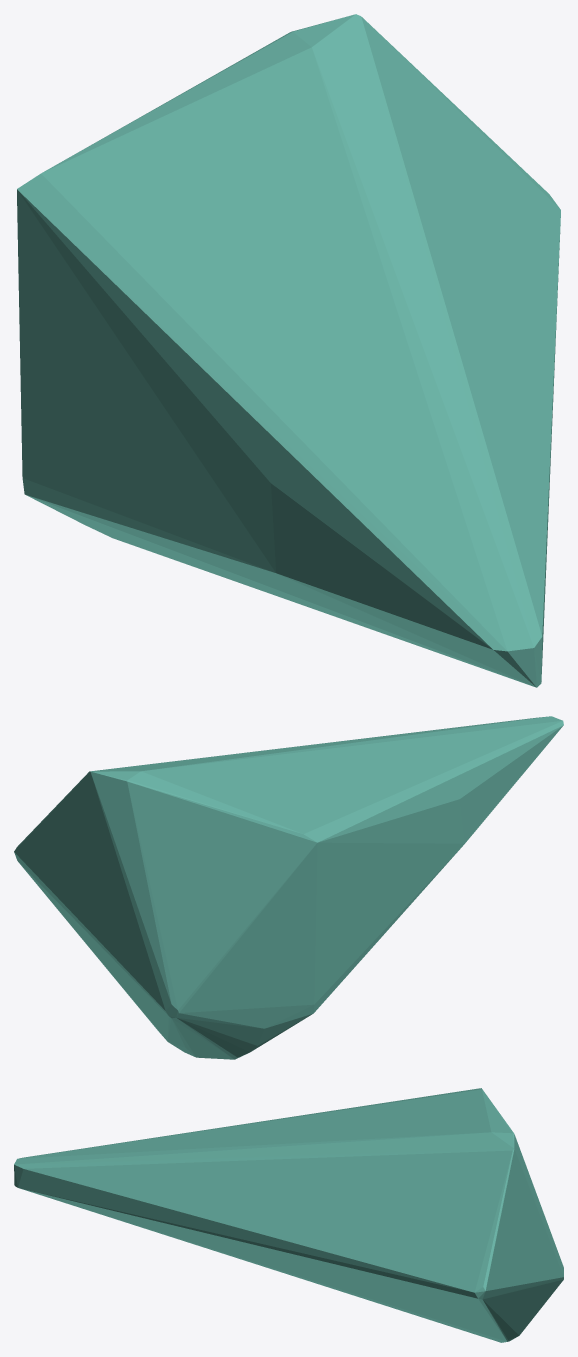
File: light_surgical_ceiling_mobile_a01.glb
The picture shows the model from 3 angles, top to bottom: view 1: azimuth 30°, elevation 25°; view 2: azimuth 150°, elevation 25°; view 3: azimuth 270°, elevation 25°; orthographic projection. The views are drawn at different scales.
Parts seen in each view (by area): view 1: geometry_0; view 2: geometry_0; view 3: geometry_0.
Boxes of the visible parts, x1,y1,x2,y2 form: geometry_0: (17, 14, 560, 687); geometry_0: (14, 716, 563, 1059); geometry_0: (14, 1088, 563, 1342).
Size of the model in its own units: 0.2714 by 0.2272 by 0.4794.
